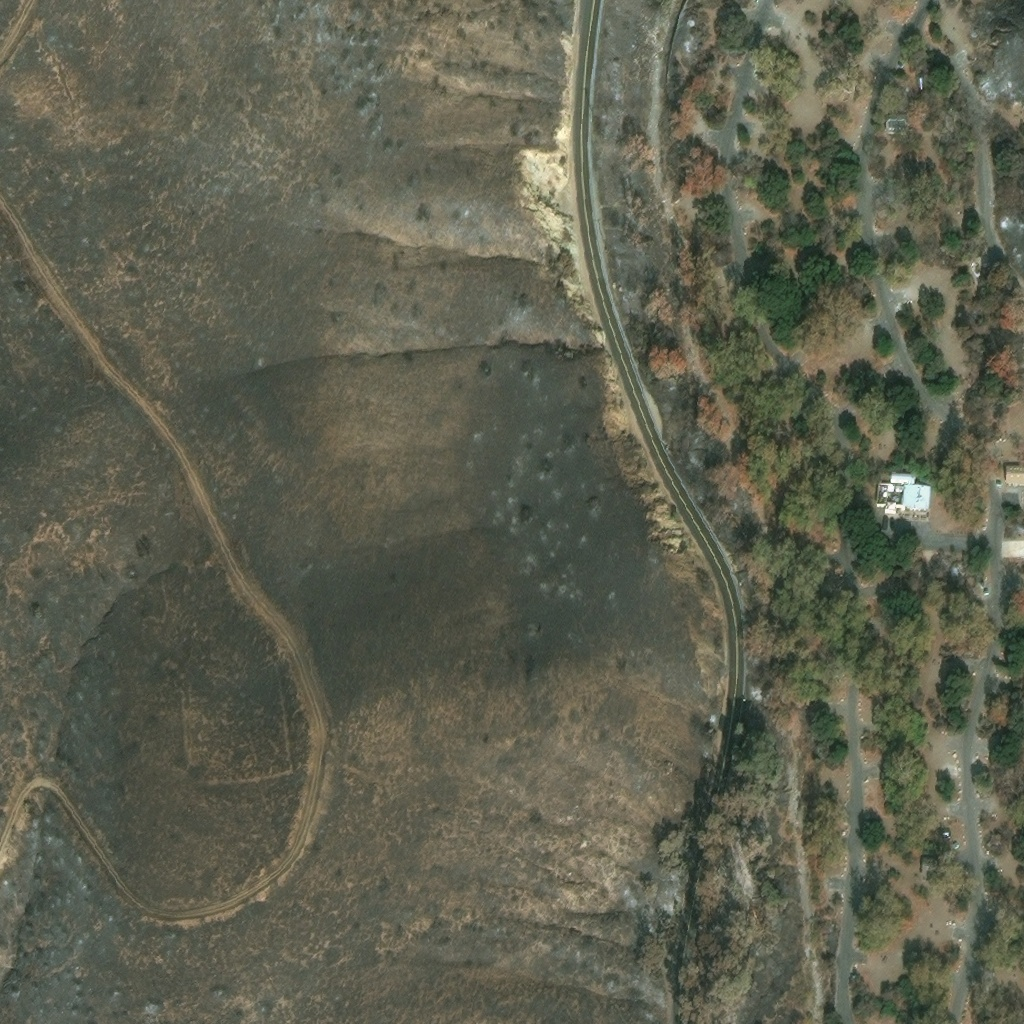0 no-damage: (876, 472, 931, 518), (922, 858, 948, 879), (1005, 465, 1023, 485), (885, 117, 909, 130), (1004, 548, 1023, 558)
